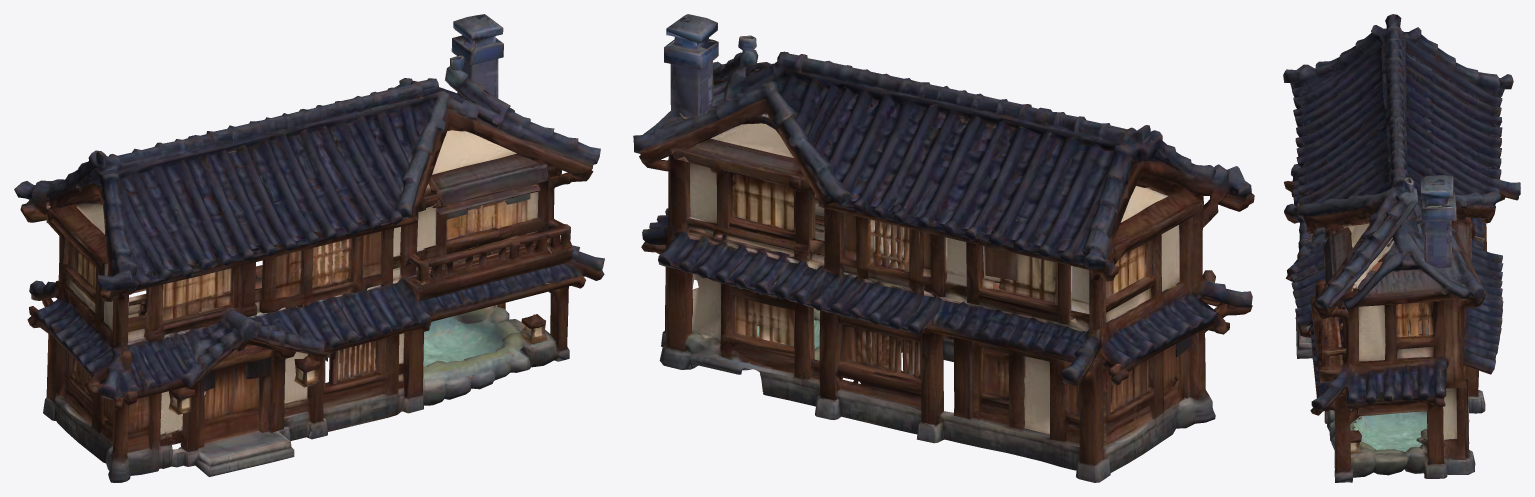
3 views of the same model, side by side, from view 1: azimuth 30°, elevation 25°; view 2: azimuth 150°, elevation 25°; view 3: azimuth 270°, elevation 25° (orthographic). The views are drawn at different scales.
Visible parts, largest first — view 1: compact__onsen_2__native_mobile; view 2: compact__onsen_2__native_mobile; view 3: compact__onsen_2__native_mobile.
Part boxes in pixels (bbox=[...]): compact__onsen_2__native_mobile: bbox=[14, 14, 604, 482]; compact__onsen_2__native_mobile: bbox=[633, 14, 1254, 482]; compact__onsen_2__native_mobile: bbox=[1283, 14, 1520, 482].
Size of the model in its own units: 1 by 0.5941 by 0.4286.
1 material, 1 textured.
